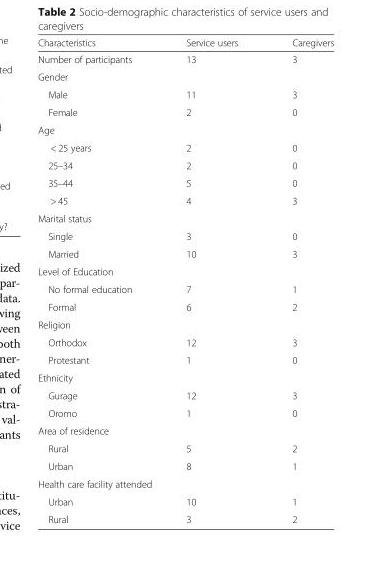table: (37, 36, 333, 524)
table column: (37, 36, 158, 524), (158, 36, 264, 524), (264, 36, 333, 524)
table column header: (37, 36, 333, 50)
table projected row header: (37, 67, 333, 85), (37, 120, 333, 138), (37, 262, 333, 280), (37, 315, 333, 333), (37, 368, 333, 386), (37, 421, 333, 439), (37, 474, 333, 492), (37, 209, 333, 226)
table row: (37, 67, 333, 85), (37, 85, 333, 103), (37, 120, 333, 138), (37, 138, 333, 156), (37, 173, 333, 191), (37, 191, 333, 209), (37, 226, 333, 244), (37, 244, 333, 262), (37, 262, 333, 280), (37, 297, 333, 315), (37, 315, 333, 333), (37, 350, 333, 368), (37, 368, 333, 386), (37, 403, 333, 421), (37, 421, 333, 439), (37, 439, 333, 457), (37, 474, 333, 492), (37, 492, 333, 510), (37, 50, 333, 67), (37, 103, 333, 120), (37, 156, 333, 173), (37, 209, 333, 226), (37, 280, 333, 297), (37, 333, 333, 350), (37, 386, 333, 403), (37, 457, 333, 474), (37, 36, 333, 50), (37, 510, 333, 524)
